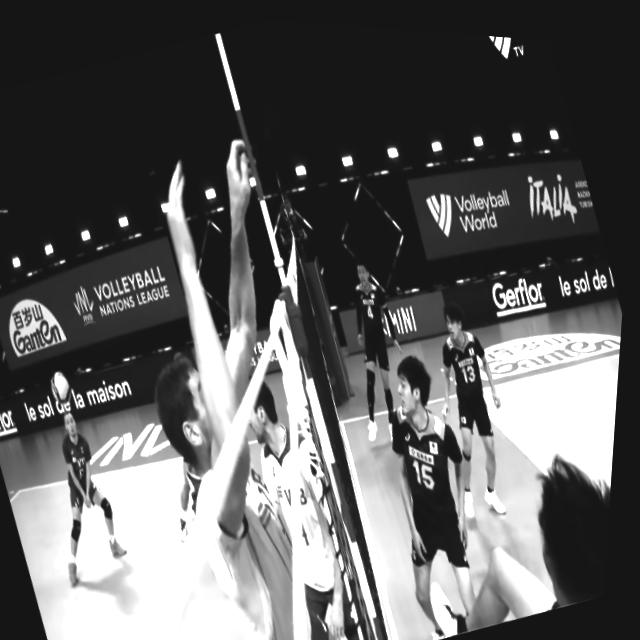player: (344, 338, 525, 639), (406, 292, 543, 521), (22, 395, 151, 587), (319, 251, 436, 447), (575, 349, 624, 573)
